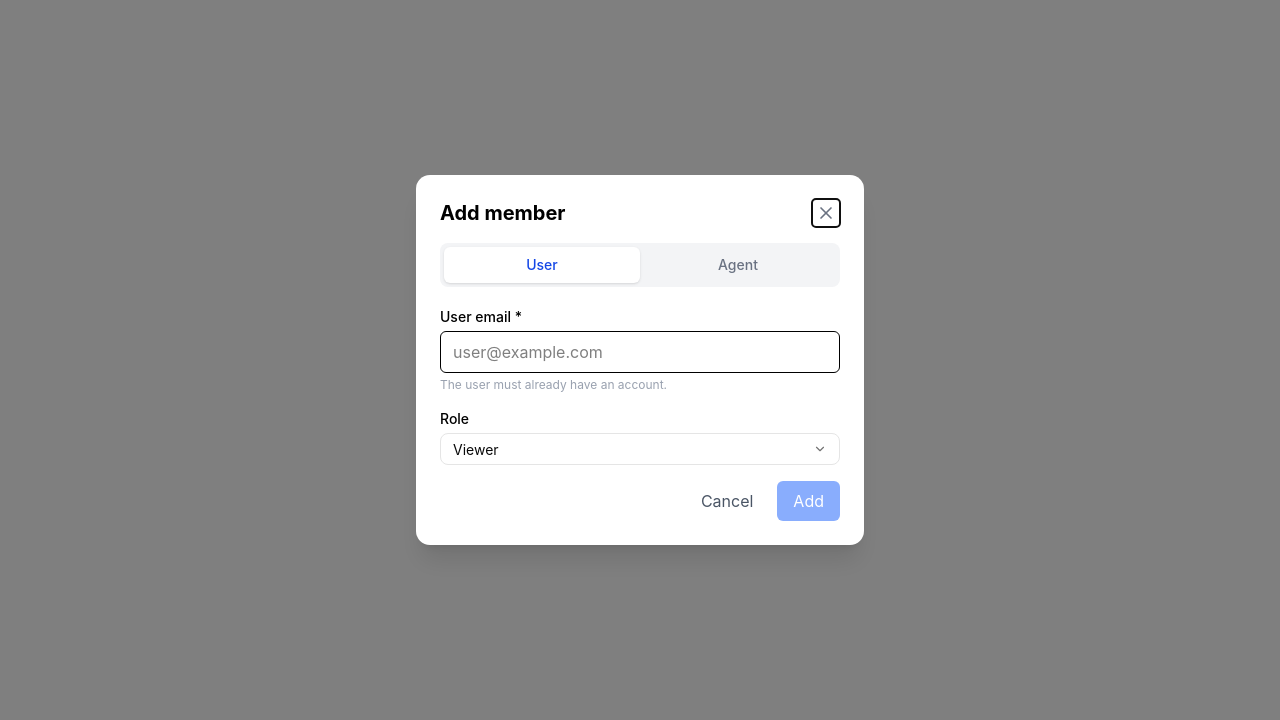
Scenario: AddSpaceMemberDialog › localizes denied member creation (zh=false)
Type "member@example.com" into the field labelled "User email *" at (640, 352), box [440,331,840,373]
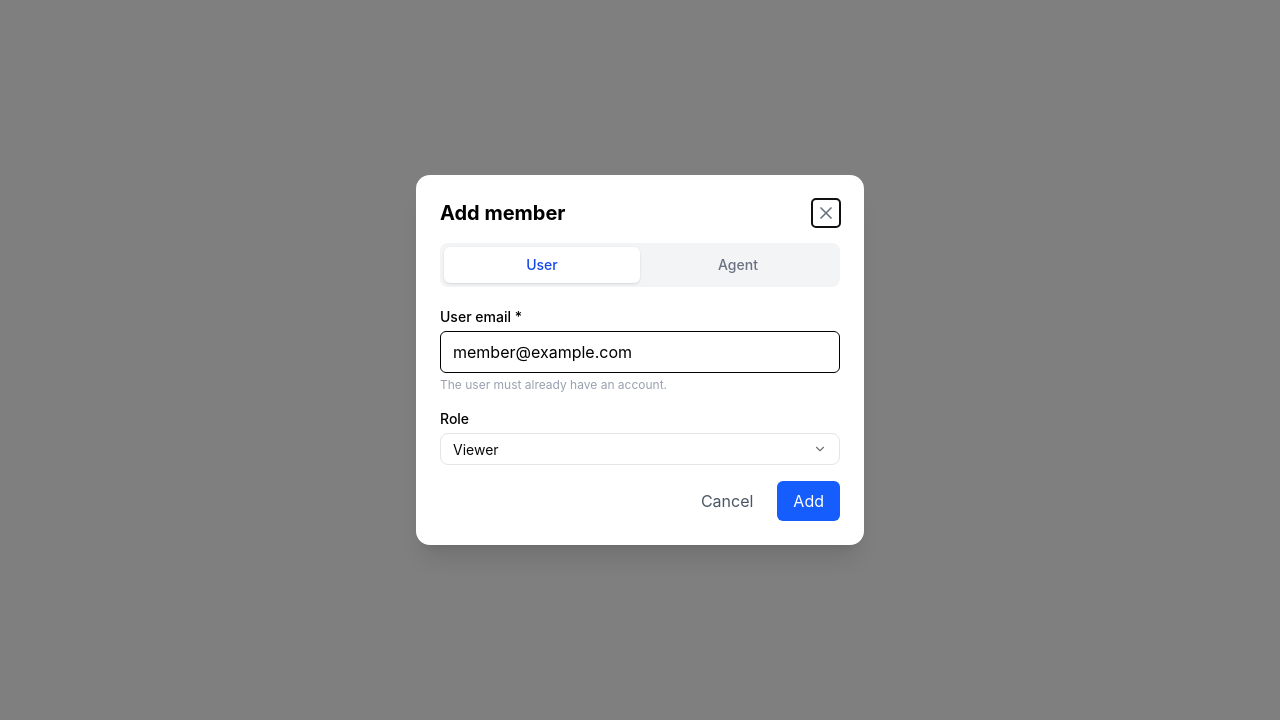
Click the button "Add" at (809, 501), box [777,481,840,521]
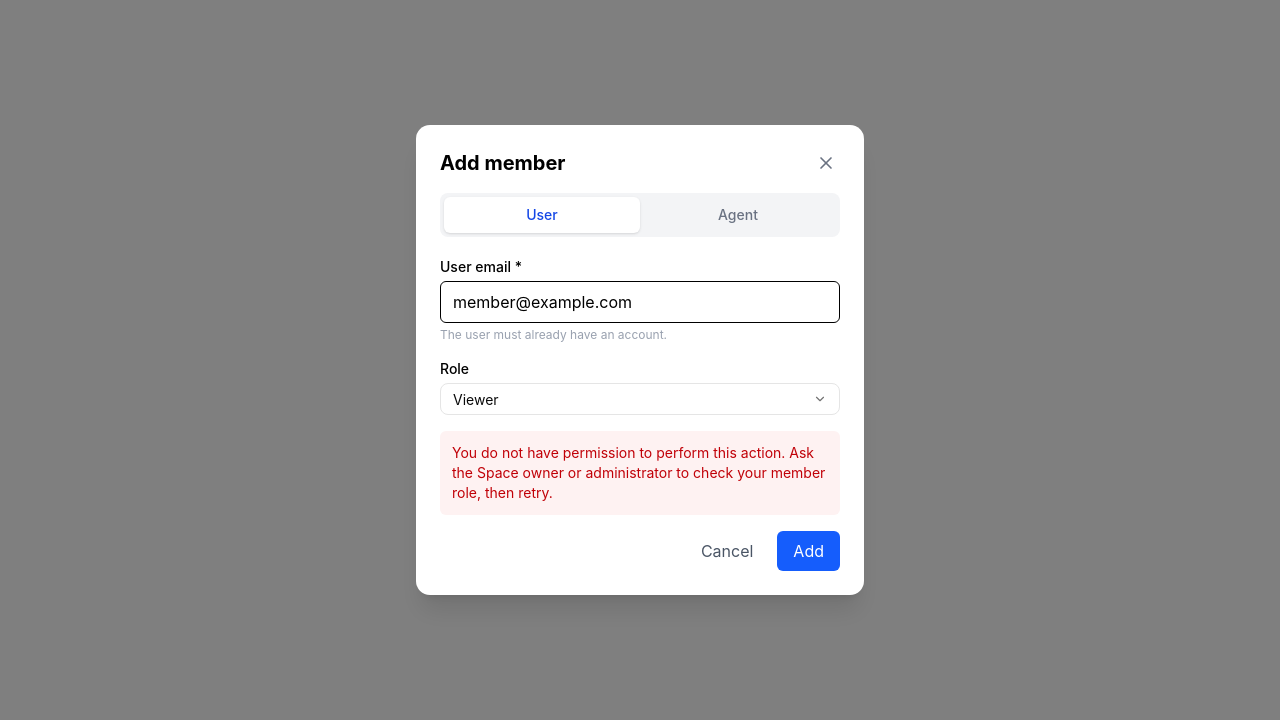
Expected: the message shows "You do not have permission to perform this action. Ask the Space owner or administrator to check your member role, then retry.", [452,444,825,501]
